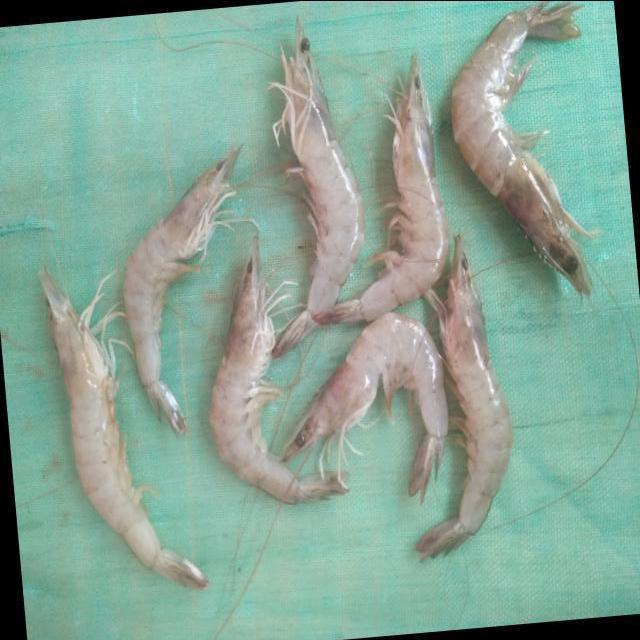shrimp: (38, 269, 208, 590), (452, 0, 594, 295), (209, 236, 347, 504), (313, 54, 449, 324), (122, 145, 239, 433), (270, 17, 364, 358), (415, 235, 513, 559), (283, 312, 448, 499)
